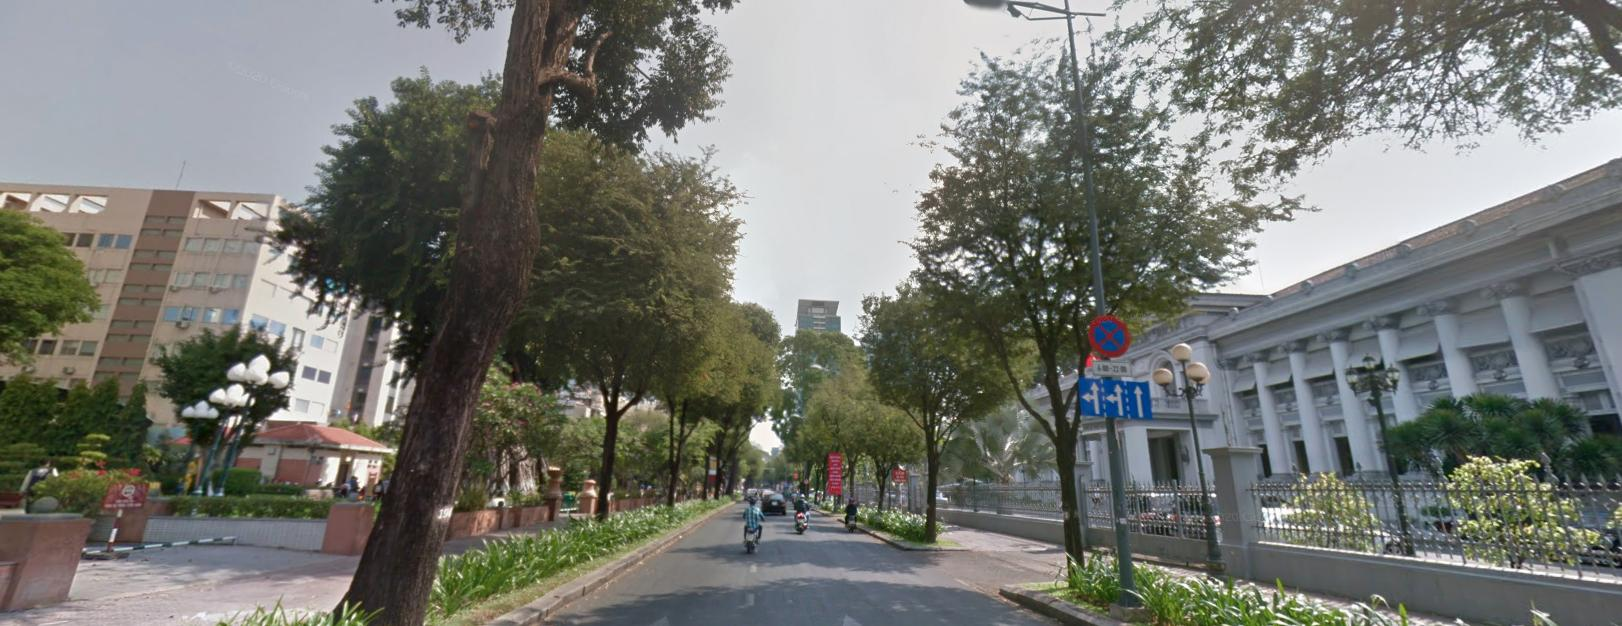Cam dung va do: (1086, 310, 1127, 356)
